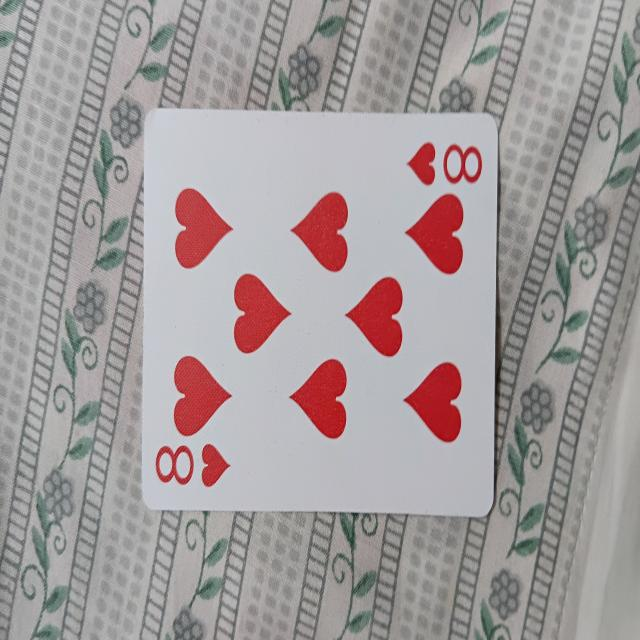8H: (140, 98, 496, 522)
